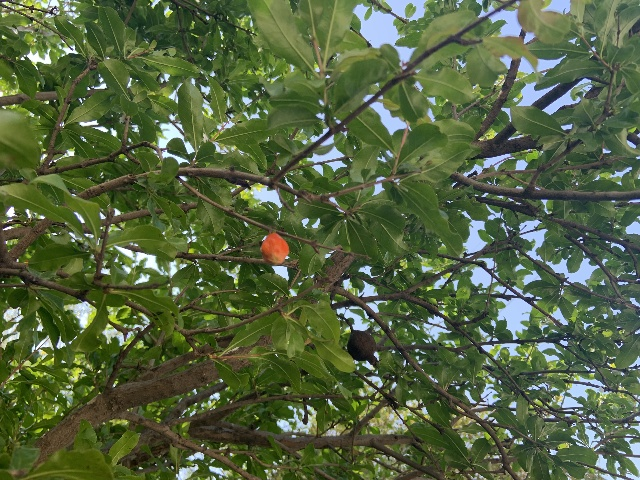bud: (260, 232, 289, 264)
